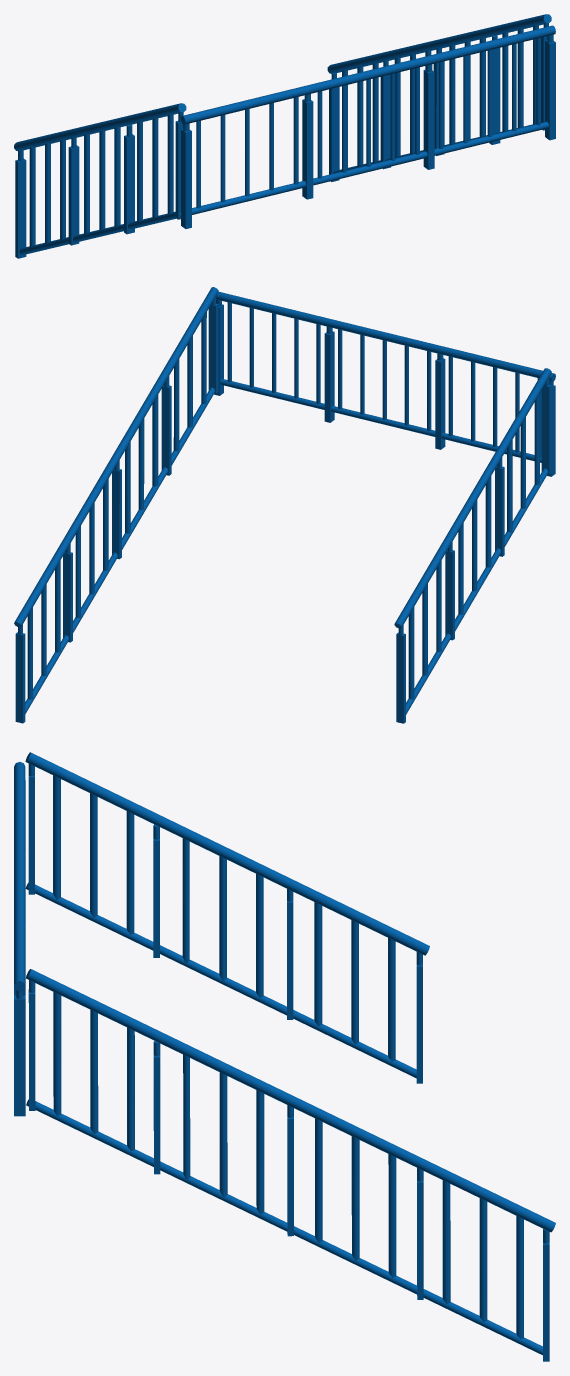
File: Guard_1_Ufa_rev.FBX
3 views of the same model, one above another, from view 1: azimuth 30°, elevation 25°; view 2: azimuth 150°, elevation 25°; view 3: azimuth 270°, elevation 25° (orthographic). The views are drawn at different scales.
Visible parts, largest first — view 1: Guard_1_Ufa_rev; view 2: Guard_1_Ufa_rev; view 3: Guard_1_Ufa_rev.
Boxes of the visible parts, bbox=[...] form: Guard_1_Ufa_rev: bbox=[14, 14, 555, 258]; Guard_1_Ufa_rev: bbox=[14, 287, 555, 723]; Guard_1_Ufa_rev: bbox=[14, 752, 555, 1361].
Bounding box in the file's own units: 3.65 × 3 × 3.77.
1 material, 1 textured.
